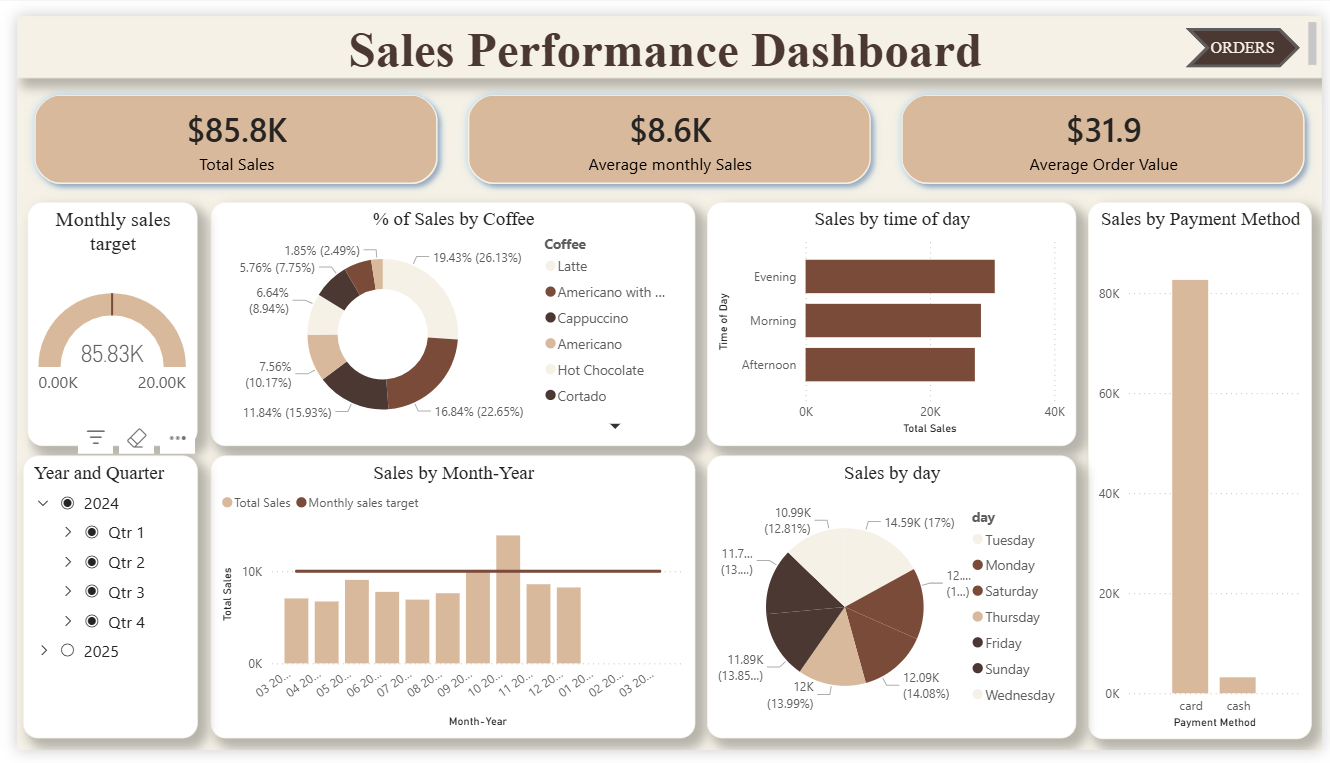

This screenshot's page, from the dashboard's own definition file:
{"tool":"powerbi","page":{"name":"Sales","canvas":[1280,720],"ordinal":0},"visuals":[{"type":"cardVisual","fields":{"Data":["coffee_sales_clean.Total Sales","coffee_sales_clean.Average monthly Sales","coffee_sales_clean.Average Order Value"]},"box":[0,60.6,1279.5,121.1],"z":0},{"type":"donutChart","title":"% of Sales by Coffee","fields":{"Y":["coffee_sales_clean.% of Total Sales"],"Category":["coffee_sales_clean.coffee_name"]},"box":[189.3,181.7,475.5,239.2],"z":1000},{"type":"barChart","title":"Sales by time of day","fields":{"Y":["coffee_sales_clean.Total Sales"],"Category":["coffee_sales_clean.time_of_day"]},"box":[676.8,181.7,361.9,239.2],"z":2000},{"type":"columnChart","title":"Sales by Payment Method","fields":{"Category":["coffee_sales_clean.payment_method"],"Y":["Sum(coffee_sales_clean.amount)"]},"box":[1049.3,181.7,219.6,526.9],"z":3000},{"type":"lineStackedColumnComboChart","title":"Sales by Month-Year","fields":{"Y":["coffee_sales_clean.Total Sales"],"Y2":["coffee_sales_clean.Monthly sales target"],"Category":["coffee_sales_clean.Month-Year"]},"box":[189.3,431.5,475.5,277.1],"z":4000},{"type":"pieChart","title":"Sales by day","fields":{"Category":["coffee_sales_clean.day"],"Y":["coffee_sales_clean.Total Sales"]},"box":[676.8,431.5,361.9,277.1],"z":5000},{"type":"gauge","title":"Monthly sales target","fields":{"Y":["Sum(coffee_sales_clean.amount)"],"TargetValue":["coffee_sales_clean.Monthly sales target"]},"box":[10.6,181.7,166.6,239.2],"z":6000},{"type":"textbox","title":"Sales Performance Dashboard","box":[0,0,1279.5,60.6],"z":7000},{"type":"listSlicer","fields":{"Values":["coffee_sales_clean.date.Variation.Date Hierarchy.Year","coffee_sales_clean.date.Variation.Date Hierarchy.Quarter","coffee_sales_clean.date.Variation.Date Hierarchy.Month","coffee_sales_clean.date.Variation.Date Hierarchy.Day"]},"box":[6.1,431.5,171.1,277.1],"z":8000},{"type":"actionButton","box":[1146.2,11.5,112.2,38.8],"z":9000}]}

Visuals, with their boxes in screenshot pixels (x1, y1, x2, y2), scaled from the page's 1280x720 canvas onto the 1330x763 screenshot:
cardVisual - coffee_sales_clean.Total Sales x coffee_sales_clean.Average monthly Sales: [0,64,1329,193]
"% of Sales by Coffee" donutChart: [197,193,691,446]
"Sales by time of day" barChart: [703,193,1079,446]
"Sales by Payment Method" columnChart: [1090,193,1318,751]
"Sales by Month-Year" lineStackedColumnComboChart: [197,457,691,751]
"Sales by day" pieChart: [703,457,1079,751]
"Monthly sales target" gauge: [11,193,184,446]
"Sales Performance Dashboard" textbox: [0,0,1329,64]
listSlicer - coffee_sales_clean.date.Variation.Date Hierarchy.Year x coffee_sales_clean.date.Variation.Date Hierarchy.Quarter: [6,457,184,751]
actionButton: [1191,12,1308,53]
